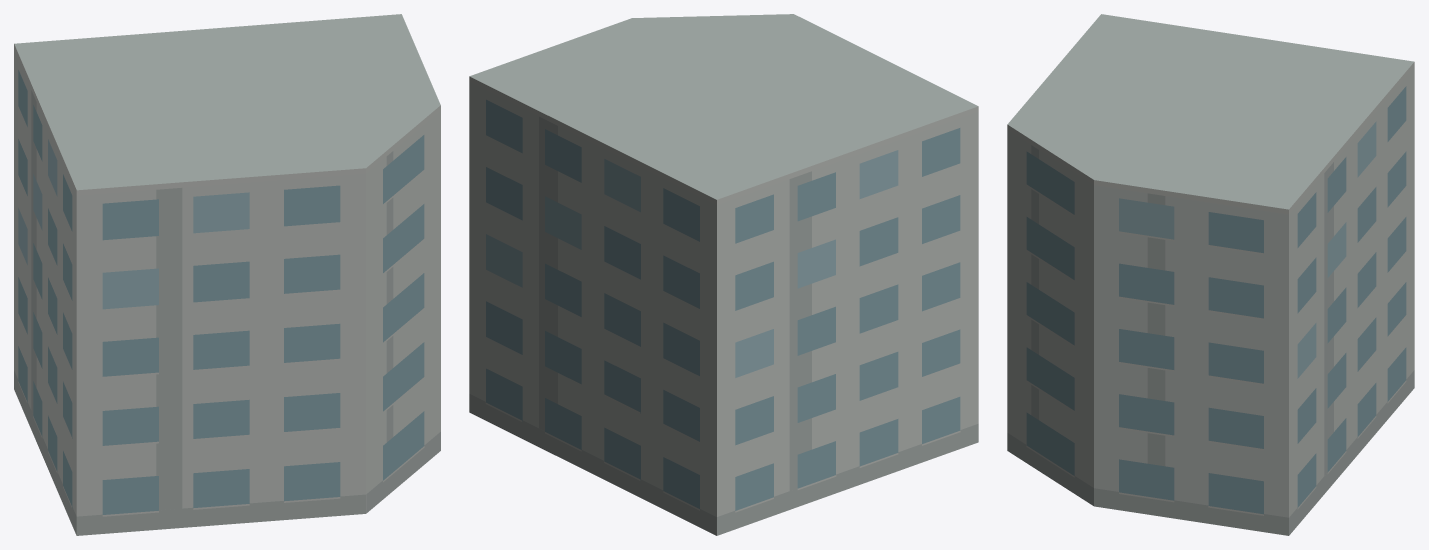
The model's file is residential-c158c20b-3373-4dce-9c27-0a6d3d78f80b.glb.
The picture shows the model from 3 angles, left to right: view 1: azimuth 30°, elevation 25°; view 2: azimuth 150°, elevation 25°; view 3: azimuth 270°, elevation 25°; orthographic projection. The views are drawn at different scales.
Parts seen in each view (by area): view 1: residential-c158c20b-3373-4dce-9c27-0a6d3d78f80b.tmp; view 2: residential-c158c20b-3373-4dce-9c27-0a6d3d78f80b.tmp; view 3: residential-c158c20b-3373-4dce-9c27-0a6d3d78f80b.tmp.
Part boxes in pixels (x1,y1,x2,y2): residential-c158c20b-3373-4dce-9c27-0a6d3d78f80b.tmp: [14, 14, 440, 535]; residential-c158c20b-3373-4dce-9c27-0a6d3d78f80b.tmp: [469, 14, 978, 535]; residential-c158c20b-3373-4dce-9c27-0a6d3d78f80b.tmp: [1007, 14, 1414, 535].
Bounding box in the file's own units: 19.61 × 15.25 × 17.25.
